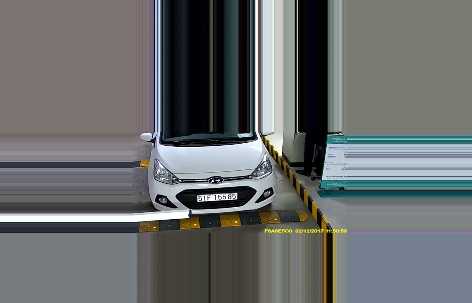plate: (195, 191, 236, 201)
